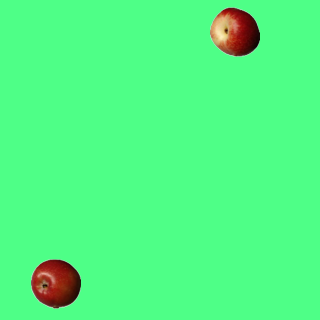Apple Braeburn: (30, 258, 80, 308)
Nectarine: (209, 6, 259, 56)
